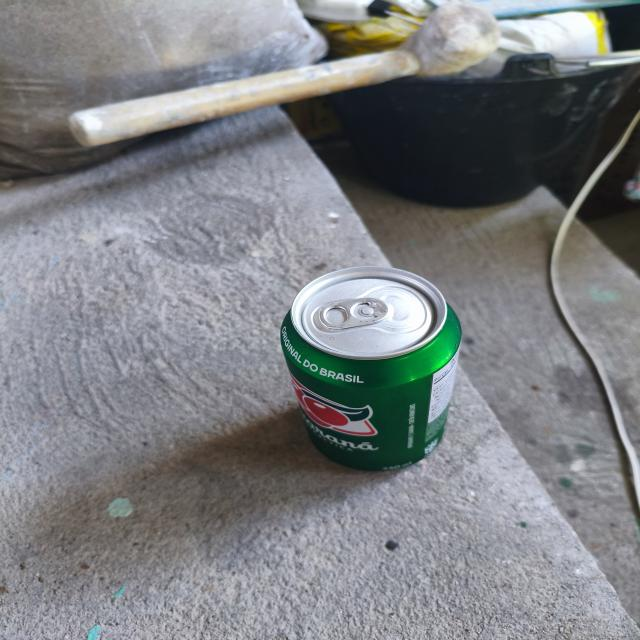Guarana: (278, 259, 464, 480)
